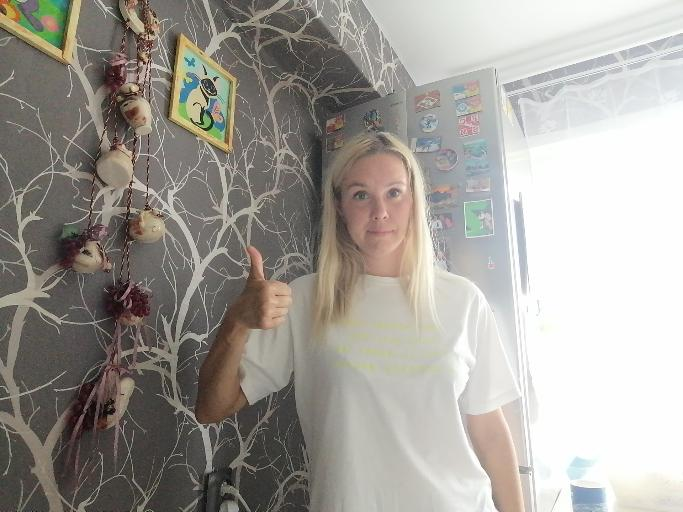like: (234, 242, 293, 331)
